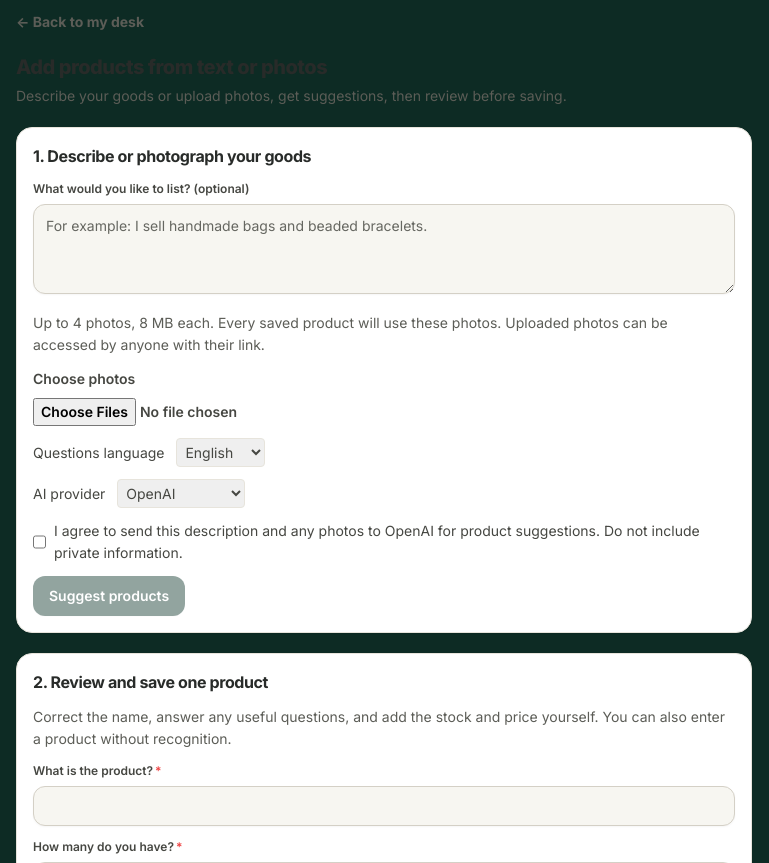
Test: photo product entry › requires fresh consent after choosing Gemini
Later steps or results of the test are not shown.
In the text box labelled "What would you like to list? (optional)": (384, 249) x1=33 y1=204 x2=735 y2=294, type "bags"
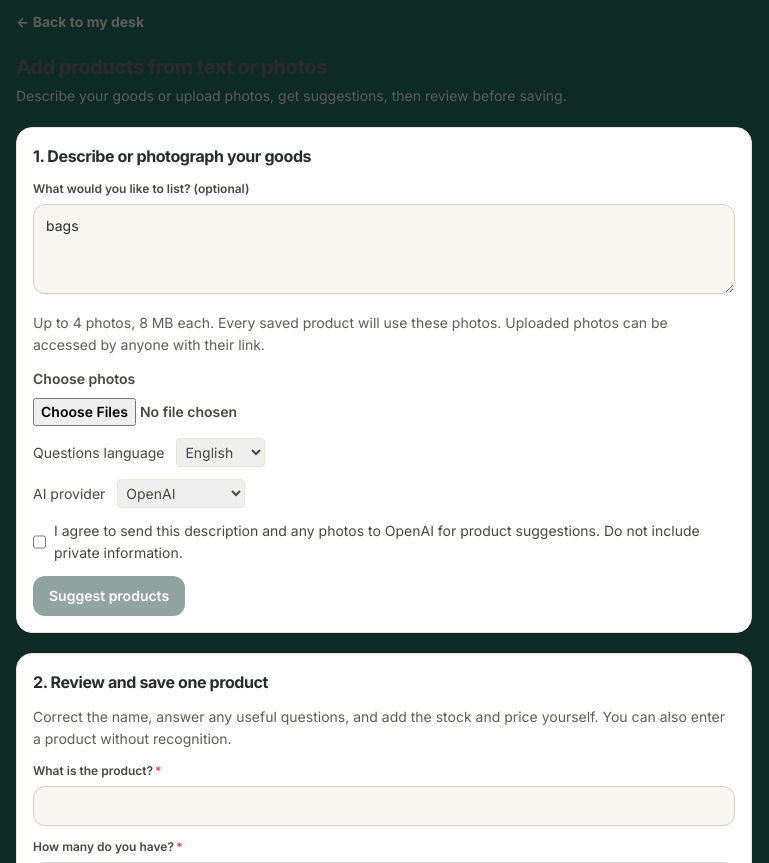
Click the checkbox: (40, 542) x1=33 y1=520 x2=46 y2=564
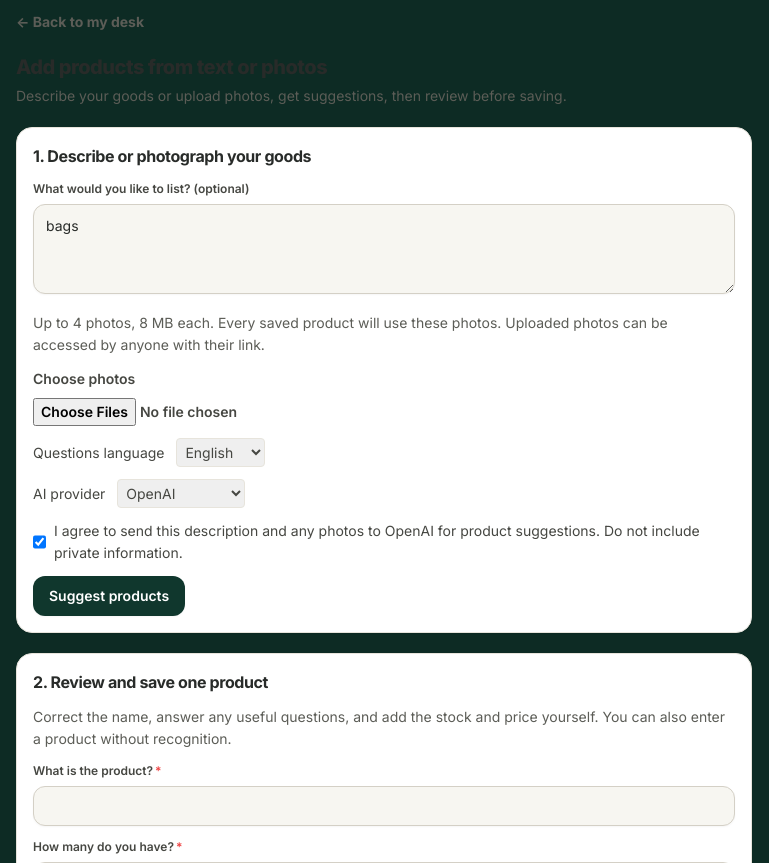
Select "Google Gemini" in the dropdown labelled "AI provider": (181, 494) x1=117 y1=479 x2=245 y2=508
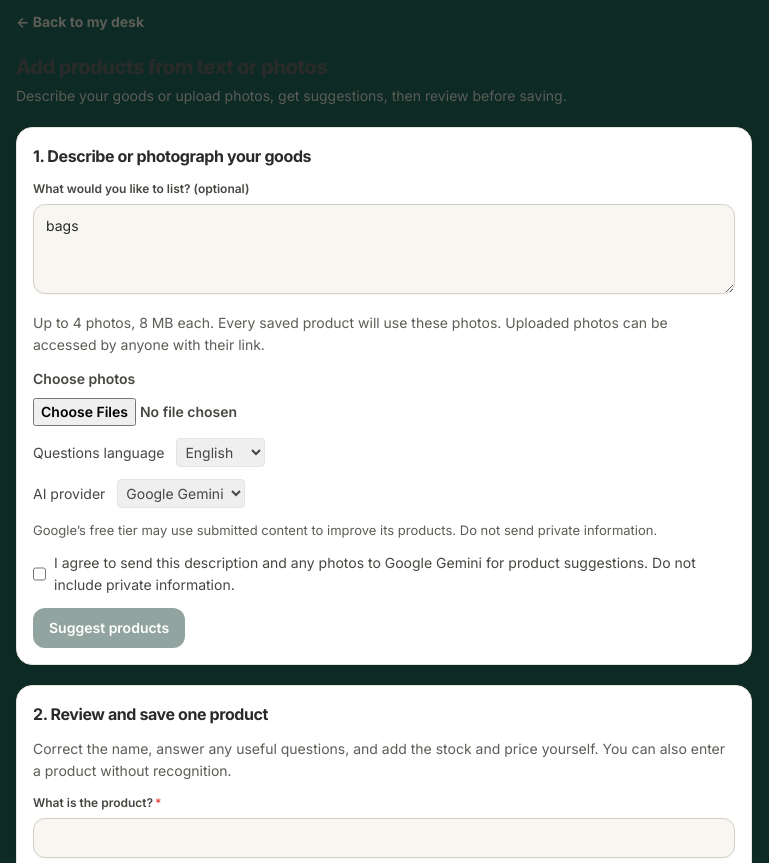
Expected: the checkbox is not checked, x1=33 y1=552 x2=46 y2=596
Expected: the text "send this description and any photos to Google Gemini" is shown, x1=33 y1=552 x2=735 y2=596
Expected: the button "Suggest products" is disabled, x1=33 y1=608 x2=185 y2=648
